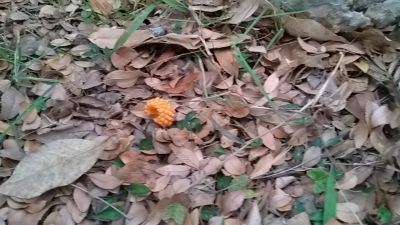eggs: (144, 97, 177, 127)
